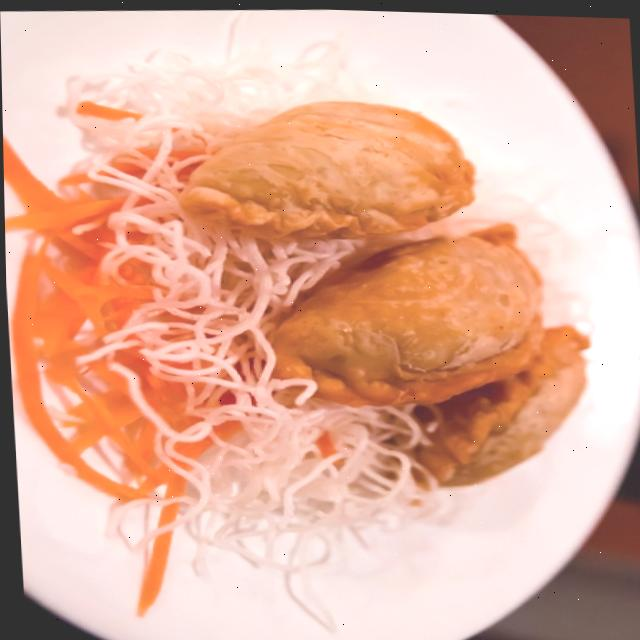炸货点心: (38, 18, 629, 620)
